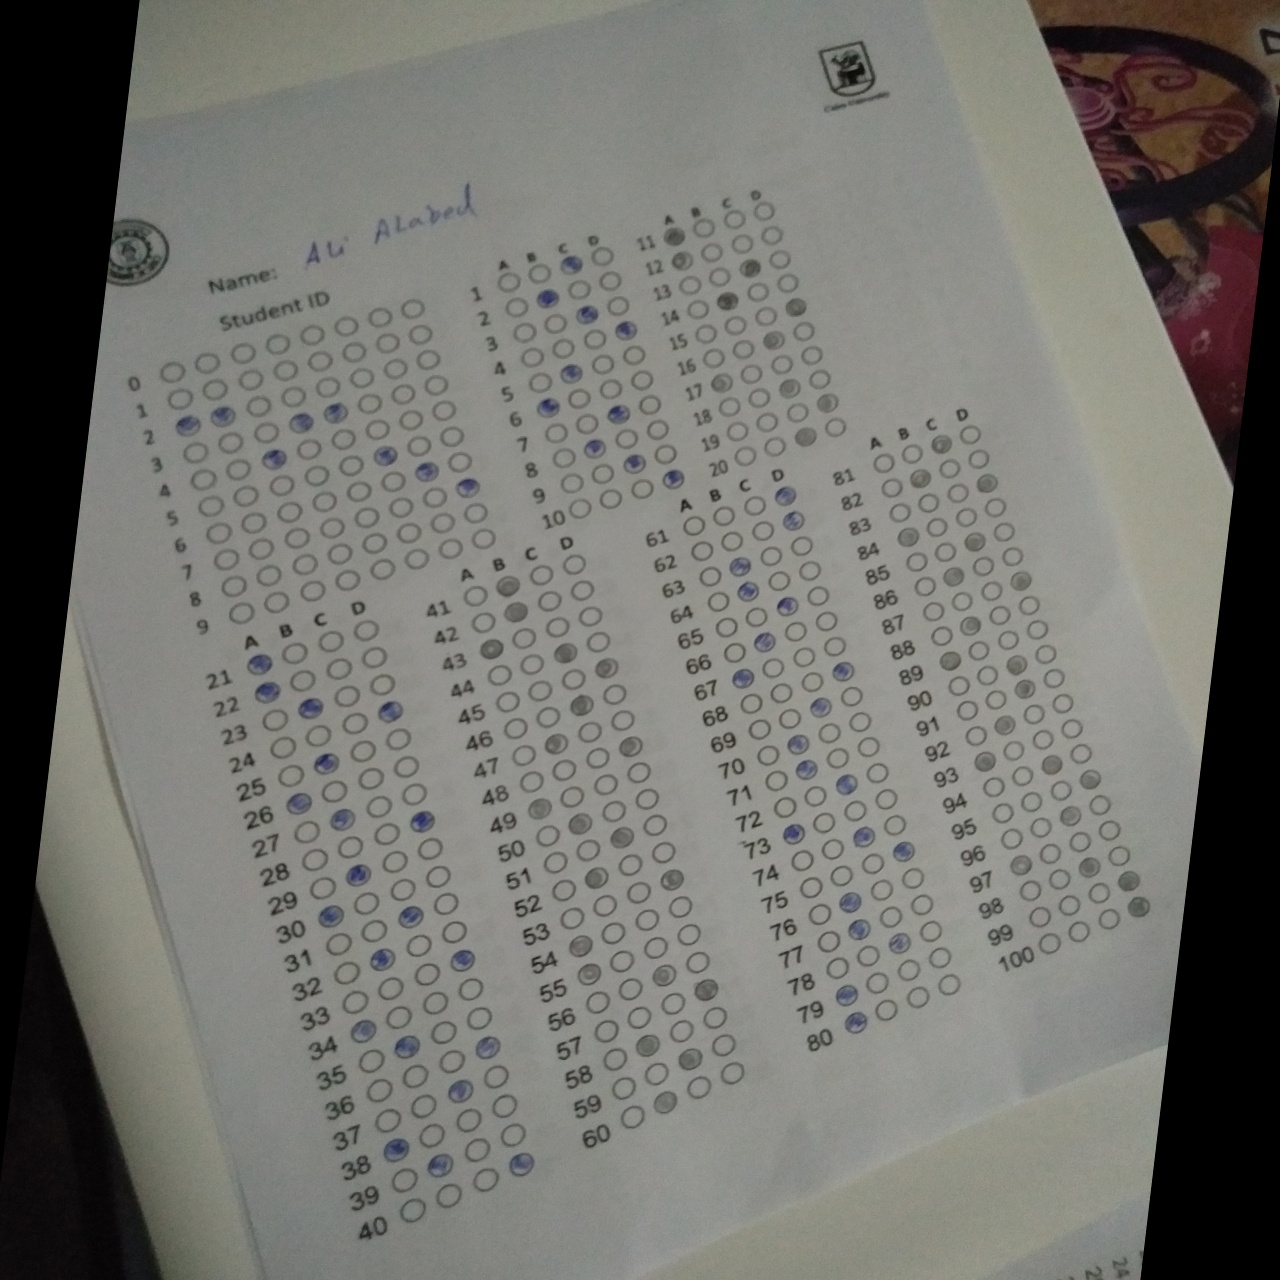not-c: (428, 1017, 459, 1046), (290, 817, 322, 844), (516, 651, 549, 678), (277, 639, 309, 666), (631, 787, 663, 813), (622, 760, 655, 787), (622, 1005, 655, 1032), (697, 1005, 730, 1032), (414, 835, 445, 862), (299, 845, 331, 872), (274, 762, 306, 789), (367, 670, 399, 697), (340, 709, 372, 736), (331, 681, 362, 708), (576, 602, 607, 629), (467, 610, 498, 636), (358, 644, 389, 670), (285, 667, 316, 694), (374, 975, 406, 1002), (387, 874, 418, 901), (306, 874, 338, 901), (515, 768, 546, 795), (508, 741, 539, 768), (598, 680, 629, 707), (663, 893, 695, 920), (433, 1182, 464, 1208), (497, 1121, 529, 1148), (372, 1107, 403, 1133), (407, 1092, 438, 1119), (418, 988, 450, 1015), (557, 903, 588, 930), (639, 811, 670, 838), (617, 1102, 648, 1129), (666, 1017, 697, 1044), (658, 990, 689, 1017), (672, 920, 703, 947), (372, 821, 402, 847), (583, 628, 613, 655), (484, 662, 515, 689), (390, 753, 421, 779), (302, 721, 333, 748), (508, 624, 538, 651), (566, 576, 597, 602), (324, 653, 354, 680), (558, 549, 588, 576), (459, 583, 490, 610), (315, 627, 346, 654), (456, 975, 486, 1002), (411, 961, 442, 988), (438, 918, 469, 945), (402, 932, 433, 959), (430, 890, 461, 917), (422, 862, 452, 888), (350, 888, 381, 915), (606, 706, 636, 733), (499, 714, 530, 741), (491, 688, 522, 715), (396, 1194, 427, 1221), (470, 1166, 501, 1193), (389, 1167, 420, 1194), (416, 1121, 447, 1148), (356, 1047, 387, 1074), (383, 1005, 414, 1032), (549, 876, 579, 903), (647, 839, 678, 866), (532, 822, 563, 849), (607, 1076, 638, 1103), (640, 1060, 670, 1087), (708, 1032, 738, 1058), (1024, 903, 1055, 930), (863, 968, 893, 995), (334, 833, 366, 859), (399, 781, 430, 806), (557, 666, 588, 692), (354, 765, 386, 791), (318, 778, 349, 804), (258, 706, 290, 731), (542, 613, 573, 639), (350, 617, 382, 642), (339, 988, 370, 1014), (359, 917, 390, 942), (379, 847, 410, 873), (588, 771, 620, 797), (554, 783, 586, 809), (581, 744, 613, 770), (631, 906, 662, 932), (591, 1017, 622, 1043), (462, 1136, 493, 1162), (488, 1092, 519, 1118), (435, 1047, 467, 1073), (399, 1063, 430, 1089), (363, 1078, 395, 1104), (622, 879, 654, 905), (588, 891, 620, 917), (598, 797, 629, 823), (717, 1060, 749, 1085), (598, 919, 629, 945), (250, 420, 282, 444), (243, 394, 275, 418), (788, 318, 821, 342), (384, 493, 417, 518), (862, 760, 891, 787), (871, 785, 900, 812), (818, 835, 847, 862), (1036, 839, 1065, 866), (926, 944, 955, 971), (607, 947, 638, 973), (363, 794, 394, 819), (382, 726, 413, 751), (347, 738, 377, 764), (267, 734, 298, 760), (533, 587, 564, 613), (526, 561, 557, 587), (331, 960, 361, 986), (324, 931, 354, 956), (549, 756, 579, 782), (574, 719, 605, 744), (532, 703, 563, 729), (524, 678, 554, 703), (452, 1107, 483, 1132), (479, 1063, 510, 1089), (463, 1006, 493, 1032), (613, 851, 644, 877), (572, 836, 602, 862), (538, 849, 568, 874), (600, 1046, 631, 1071), (685, 1074, 715, 1099), (681, 949, 712, 975), (641, 933, 672, 959), (614, 974, 645, 1000), (581, 989, 612, 1015), (803, 901, 833, 927), (876, 904, 906, 930), (865, 877, 896, 903), (878, 813, 908, 839), (787, 847, 817, 873), (897, 864, 927, 890), (1026, 813, 1056, 839), (1085, 792, 1116, 818), (1034, 931, 1064, 956), (782, 399, 813, 423), (721, 312, 753, 336), (706, 264, 737, 288), (540, 311, 572, 335), (377, 468, 409, 492), (311, 374, 343, 397), (767, 353, 799, 376), (610, 427, 642, 450), (570, 411, 602, 435), (617, 343, 649, 367), (229, 484, 261, 508), (420, 373, 452, 396), (563, 497, 595, 520), (515, 345, 547, 368), (366, 556, 399, 579), (297, 579, 329, 602), (358, 531, 390, 554), (433, 537, 465, 560), (855, 942, 883, 969), (1046, 865, 1074, 892), (896, 956, 924, 983), (761, 767, 790, 792), (998, 825, 1027, 851), (1104, 842, 1133, 867), (934, 971, 964, 996), (903, 985, 932, 1010), (871, 998, 900, 1023), (260, 590, 291, 614), (444, 449, 475, 474), (796, 874, 826, 899), (799, 783, 830, 808), (809, 810, 839, 835), (1094, 906, 1124, 931), (363, 306, 395, 329), (372, 331, 403, 354), (181, 440, 212, 463), (413, 348, 444, 372), (346, 367, 377, 390), (338, 340, 369, 363), (332, 314, 363, 338), (726, 231, 757, 254), (688, 216, 720, 239), (523, 263, 554, 286), (268, 358, 300, 381), (234, 368, 266, 392), (163, 387, 195, 410), (261, 332, 293, 355), (156, 360, 188, 383), (403, 321, 435, 345), (563, 278, 594, 301), (730, 444, 762, 468), (760, 435, 791, 458), (821, 415, 852, 438), (714, 395, 745, 418), (804, 367, 836, 390), (681, 297, 713, 320), (587, 462, 619, 485), (547, 447, 579, 470), (563, 386, 594, 409), (546, 336, 578, 360), (508, 320, 539, 343), (402, 433, 434, 456), (245, 537, 277, 560), (335, 452, 367, 476), (265, 474, 297, 497), (188, 467, 219, 490), (387, 382, 418, 406), (594, 486, 626, 510), (253, 563, 285, 586), (324, 542, 355, 565), (200, 520, 233, 543), (291, 437, 324, 459), (554, 472, 587, 495), (461, 501, 493, 523), (828, 863, 856, 888), (771, 795, 799, 821), (1065, 829, 1094, 855), (813, 928, 843, 953), (822, 955, 851, 980), (858, 850, 887, 874), (840, 798, 870, 823), (1096, 817, 1125, 842), (1016, 878, 1046, 903), (1054, 892, 1083, 917), (1085, 880, 1115, 905), (907, 892, 937, 917), (917, 918, 946, 942), (397, 297, 428, 320), (749, 198, 779, 222), (719, 207, 749, 231), (587, 245, 618, 268), (492, 271, 523, 294), (229, 341, 259, 365), (595, 268, 626, 292), (722, 421, 753, 444), (745, 384, 776, 408), (753, 302, 783, 326), (772, 271, 803, 294), (539, 422, 570, 445), (586, 352, 617, 375), (579, 327, 610, 350), (602, 293, 633, 316), (627, 368, 658, 392), (633, 394, 663, 417), (651, 441, 681, 464), (308, 489, 339, 512), (238, 510, 268, 533), (301, 463, 332, 486), (396, 408, 427, 431), (195, 493, 225, 517), (222, 457, 252, 481), (395, 519, 425, 543), (290, 552, 320, 576), (501, 295, 532, 318), (380, 358, 411, 380), (302, 349, 334, 372), (469, 527, 501, 550), (797, 343, 829, 366), (728, 336, 760, 359), (689, 322, 721, 345), (742, 281, 774, 304), (594, 377, 626, 400), (210, 547, 241, 570), (343, 479, 375, 502), (272, 501, 304, 523), (353, 392, 384, 414), (626, 478, 658, 501), (427, 512, 458, 535), (401, 549, 433, 571), (331, 568, 362, 591), (224, 601, 256, 624), (216, 574, 247, 597), (418, 486, 450, 509), (350, 505, 382, 527), (315, 516, 347, 538), (757, 543, 784, 568), (765, 568, 792, 594), (1065, 918, 1094, 942), (1023, 617, 1051, 641), (717, 529, 745, 553), (741, 493, 769, 518), (823, 745, 851, 770), (279, 384, 309, 407), (758, 223, 789, 245), (696, 241, 727, 264), (199, 377, 230, 400), (297, 324, 327, 346), (192, 350, 223, 373), (753, 410, 783, 433), (735, 362, 765, 384), (697, 347, 728, 369), (675, 274, 706, 297), (644, 418, 674, 441), (430, 399, 461, 421), (327, 427, 358, 449), (280, 527, 311, 550), (438, 424, 469, 447), (215, 431, 246, 452), (525, 370, 557, 392), (986, 602, 1013, 627), (924, 515, 951, 539), (937, 456, 964, 481), (897, 441, 924, 465), (803, 584, 830, 608), (782, 619, 809, 644), (855, 735, 881, 760), (704, 588, 731, 613), (981, 688, 1009, 712), (969, 554, 998, 578), (965, 639, 993, 662), (1040, 667, 1068, 690), (1000, 738, 1028, 762), (1067, 742, 1095, 765), (1017, 790, 1046, 813), (945, 482, 973, 505), (887, 501, 915, 524), (964, 447, 992, 470), (954, 422, 982, 445), (680, 515, 708, 538), (795, 559, 823, 583), (758, 656, 787, 680), (736, 692, 764, 715), (767, 681, 795, 704), (837, 685, 865, 708), (846, 709, 874, 733), (815, 720, 843, 743), (982, 496, 1010, 519), (720, 640, 748, 663), (764, 248, 795, 270), (363, 418, 394, 440), (1020, 702, 1047, 726), (953, 697, 980, 721), (945, 674, 972, 697), (990, 520, 1017, 544), (903, 550, 930, 573), (998, 544, 1024, 567), (948, 588, 975, 612), (978, 579, 1005, 602), (927, 624, 954, 647), (974, 663, 1001, 687), (994, 629, 1021, 653), (980, 775, 1007, 798), (1030, 727, 1057, 750), (1049, 692, 1076, 715), (989, 801, 1016, 824), (914, 491, 941, 515), (878, 476, 905, 499), (710, 504, 737, 527), (813, 610, 840, 633), (790, 645, 817, 668), (775, 707, 802, 730), (821, 634, 847, 658), (742, 606, 769, 629), (754, 743, 782, 765), (1008, 765, 1036, 788), (1057, 717, 1085, 740), (1046, 778, 1074, 801), (869, 451, 897, 474), (749, 520, 777, 543), (695, 566, 723, 588), (787, 535, 815, 557), (745, 717, 774, 740), (797, 670, 825, 693), (962, 723, 989, 745), (712, 614, 738, 636), (931, 540, 958, 563), (911, 576, 938, 598), (920, 600, 947, 622), (1016, 594, 1043, 617), (1032, 642, 1058, 665), (688, 539, 715, 561), (953, 505, 980, 527)
taken-c: (505, 1150, 537, 1179), (423, 1152, 457, 1178), (612, 318, 644, 343), (619, 450, 651, 476), (379, 1137, 411, 1162), (452, 475, 483, 501), (259, 445, 290, 471), (631, 1032, 661, 1057), (604, 402, 635, 427), (445, 948, 477, 973), (282, 790, 314, 815), (312, 750, 343, 775), (244, 652, 275, 676), (445, 1078, 477, 1103), (791, 423, 821, 449), (173, 413, 203, 438), (651, 1089, 680, 1115), (606, 823, 635, 849), (565, 810, 594, 836), (532, 395, 563, 420), (659, 467, 689, 491), (413, 459, 443, 484), (320, 400, 350, 424), (206, 402, 237, 427), (394, 904, 424, 928), (327, 806, 358, 831), (375, 699, 406, 723), (658, 866, 688, 891), (525, 796, 556, 821), (692, 978, 722, 1002), (775, 376, 806, 400), (815, 390, 846, 414), (285, 411, 316, 435), (367, 947, 399, 971), (829, 659, 857, 685), (370, 443, 400, 468), (315, 903, 345, 927), (343, 863, 373, 887), (407, 809, 436, 833), (297, 696, 326, 721), (649, 962, 679, 987), (675, 1047, 704, 1071), (348, 1017, 377, 1042), (572, 302, 602, 326), (579, 436, 610, 459), (252, 681, 282, 704), (580, 865, 611, 888), (831, 982, 862, 1006), (840, 1010, 871, 1034), (572, 962, 602, 986), (392, 1035, 422, 1058), (476, 636, 504, 661), (557, 361, 586, 384), (566, 934, 595, 958), (474, 1035, 503, 1058), (617, 734, 645, 757), (542, 731, 570, 755), (591, 655, 619, 679), (927, 431, 956, 454), (736, 256, 763, 279), (779, 509, 806, 532), (568, 693, 595, 716), (779, 822, 806, 845), (990, 714, 1017, 737), (1039, 753, 1065, 776), (835, 891, 862, 914), (846, 918, 873, 941), (886, 932, 913, 955), (1076, 768, 1103, 791), (1057, 803, 1084, 826), (1076, 856, 1103, 879), (1114, 869, 1141, 892), (726, 554, 753, 578), (907, 467, 934, 490), (894, 525, 921, 549), (962, 529, 989, 552), (1007, 568, 1034, 592), (956, 613, 983, 636), (1005, 652, 1032, 675), (774, 593, 801, 617), (750, 629, 777, 653), (784, 733, 811, 756), (832, 772, 859, 796), (660, 225, 688, 247), (760, 328, 788, 350), (781, 295, 809, 318), (708, 372, 736, 394), (551, 641, 579, 663), (501, 600, 529, 622), (493, 574, 522, 597), (849, 825, 877, 847), (730, 666, 756, 689), (669, 248, 696, 271), (772, 485, 799, 508), (1012, 678, 1039, 700), (971, 750, 998, 772), (1008, 855, 1035, 877), (734, 580, 761, 602), (974, 472, 1001, 495), (940, 565, 967, 587), (806, 696, 833, 719), (792, 758, 819, 781), (535, 288, 561, 309), (558, 254, 585, 275), (891, 840, 918, 862), (1124, 896, 1151, 917), (937, 651, 964, 672)
